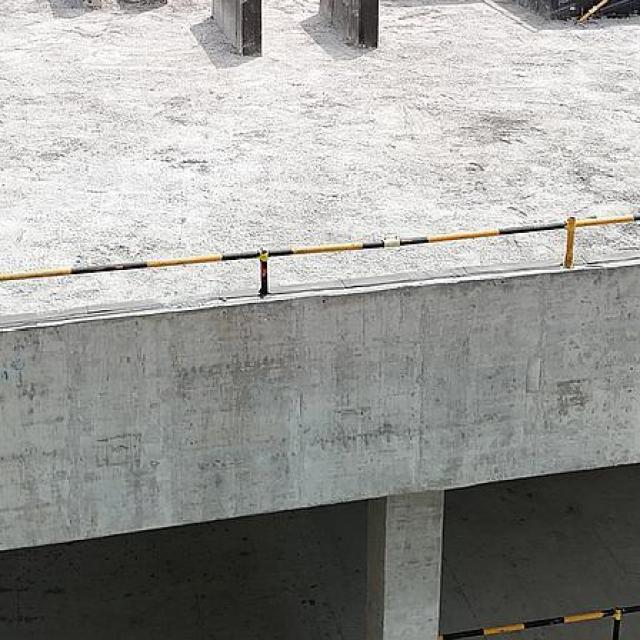edge_guardrail: (0, 211, 640, 296), (437, 603, 640, 640), (577, 0, 610, 24)
